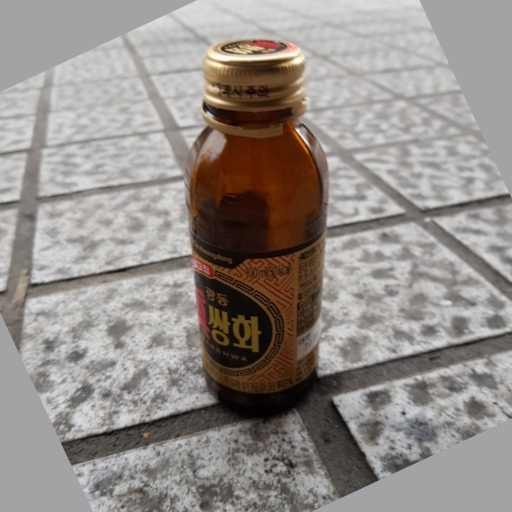Glass_3: (181, 34, 330, 416)
